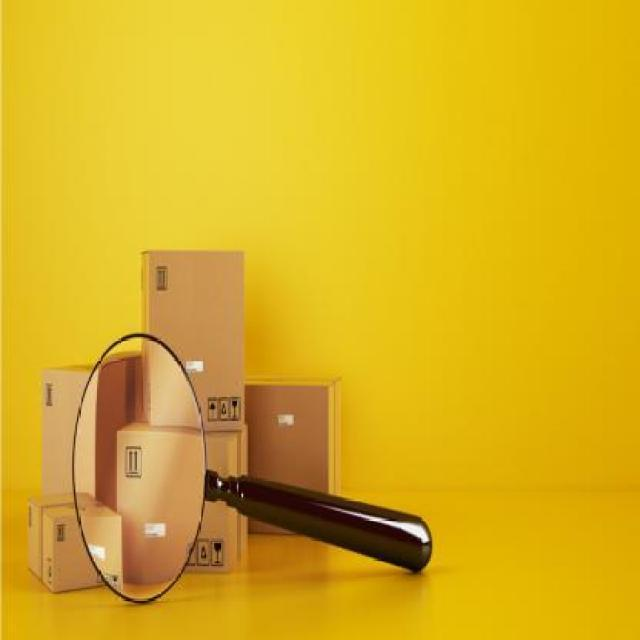box: (133, 245, 250, 428), (110, 427, 250, 574), (41, 352, 146, 514), (241, 376, 344, 534), (24, 490, 122, 593)
